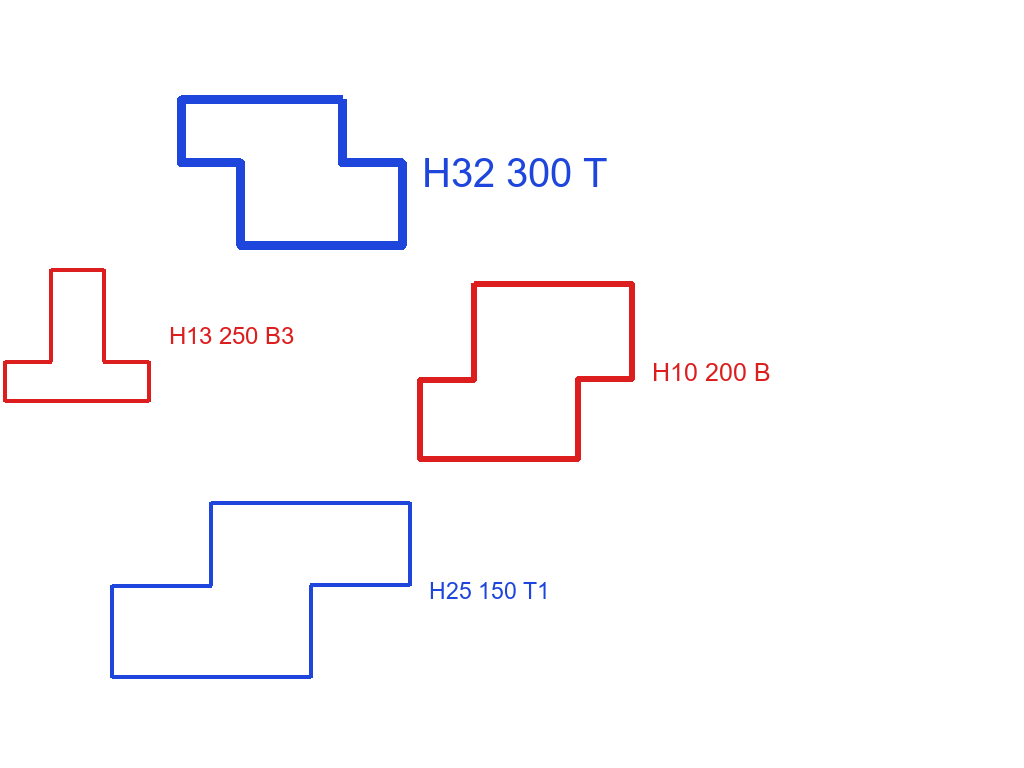shape: (109, 499, 413, 682), (416, 279, 637, 464), (175, 93, 409, 252), (2, 265, 153, 406)
text: (420, 156, 609, 189), (167, 325, 296, 346), (650, 361, 773, 383), (427, 580, 552, 601)
